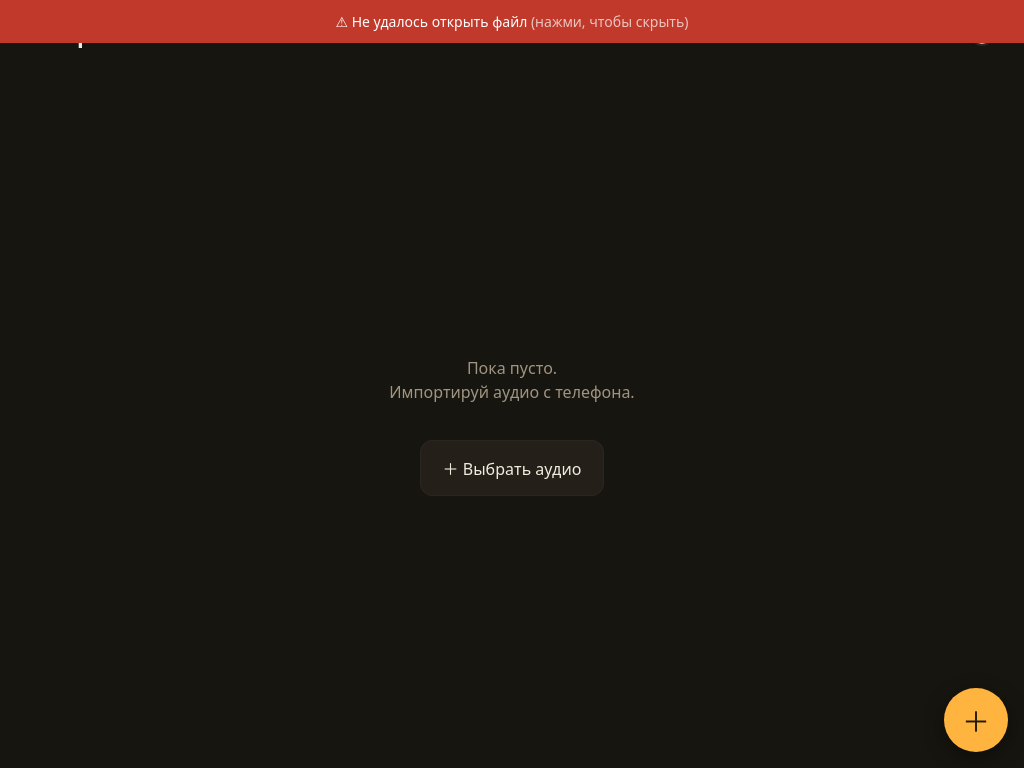
Test: App error banner › shows the store error and dismisses it on click
Expected: the message shows "Не удалось открыть файл", [352,12,527,31]
What coordinates should you click on to do the following:
click the message "⚠ Не удалось открыть файл (нажми, чтобы скрыть)"
I would click on:
 (512, 22)
Its box is [0,0,1023,43].
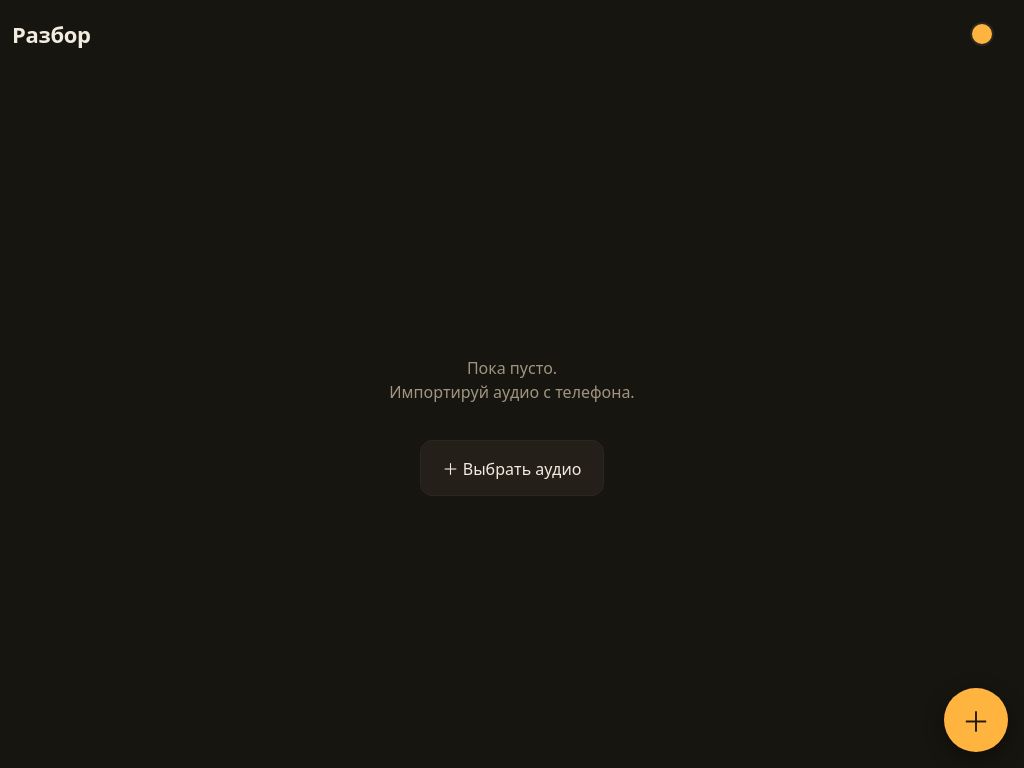
Result: the message "⚠ Не удалось открыть файл (нажми, чтобы скрыть)" is gone
